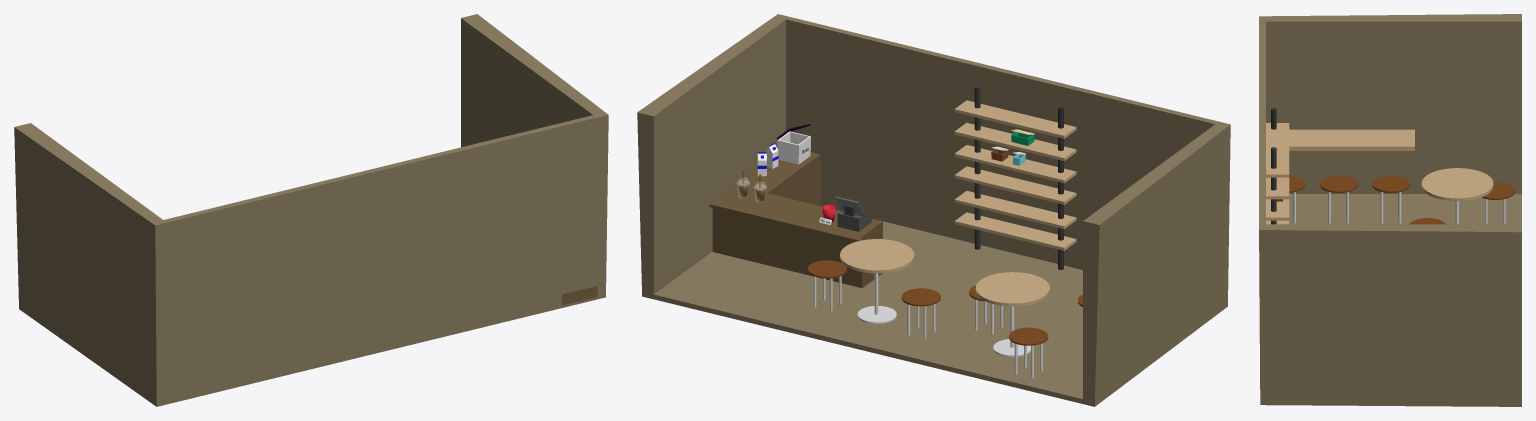
Rendered from boba cafe.glb.
3 views of the same model, side by side, from view 1: azimuth 30°, elevation 25°; view 2: azimuth 150°, elevation 25°; view 3: azimuth 270°, elevation 25° (orthographic). The views are drawn at different scales.
Parts seen in each view (by area): view 1: Cube; view 2: Cube, Plane, Cube.003, Cylinder.036, Cylinder.003, Cylinder.038, Cube.004, Cylinder.043, Cylinder.030, Cube.019; view 3: Cube, Cube.001, Cube.003, Cylinder.003, Cylinder.017, Cylinder.022, Cylinder.030, Cylinder.023.
Boxes of the visible parts, bbox=[...] form: Cube: bbox=[14, 14, 608, 406]; Cube: bbox=[637, 14, 1230, 406]; Plane: bbox=[709, 152, 882, 288]; Cube.003: bbox=[954, 86, 1076, 269]; Cylinder.036: bbox=[840, 239, 914, 323]; Cylinder.003: bbox=[975, 272, 1049, 356]; Cylinder.038: bbox=[901, 288, 940, 338]; Cube.004: bbox=[777, 124, 810, 164]; Cylinder.043: bbox=[807, 260, 846, 310]; Cylinder.030: bbox=[1009, 327, 1048, 378]; Cube.019: bbox=[835, 196, 871, 231]; Cube: bbox=[1259, 14, 1521, 406]; Cube.001: bbox=[1289, 129, 1414, 150]; Cube.003: bbox=[1266, 108, 1289, 224]; Cylinder.003: bbox=[1421, 168, 1493, 224]; Cylinder.017: bbox=[1372, 175, 1410, 223]; Cylinder.022: bbox=[1320, 175, 1357, 223]; Cylinder.030: bbox=[1482, 182, 1514, 224]; Cylinder.023: bbox=[1289, 175, 1304, 223].
Bounding box in the file's own units: 54.49 × 20.61 × 27.75.
